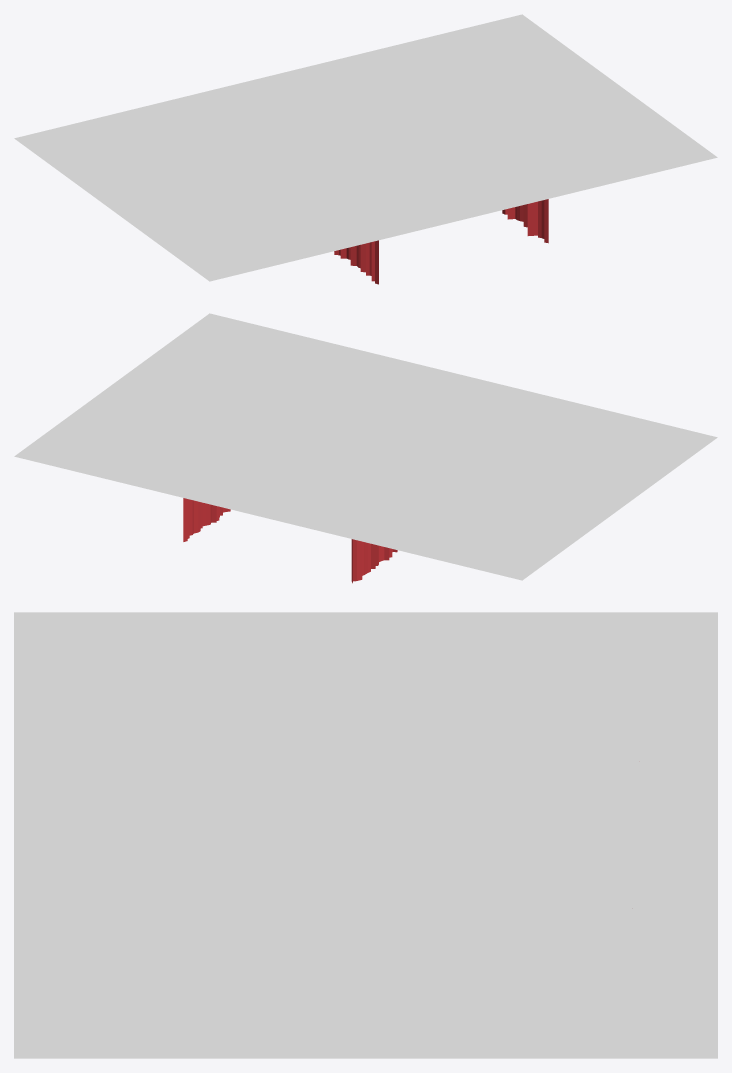
File: icpupt.fbx
3 views of the same model, one above another, from view 1: azimuth 30°, elevation 25°; view 2: azimuth 150°, elevation 25°; view 3: azimuth 270°, elevation 25° (orthographic). The views are drawn at different scales.
Visible parts, largest first — view 1: Base, L, R; view 2: Base, L, R; view 3: L, R, Base.
Boxes of the visible parts, box(x1,y1,x2,y2) form: Base: box(184, 55, 548, 284); L: box(14, 97, 378, 284); R: box(353, 14, 717, 198); Base: box(183, 354, 548, 583); L: box(352, 396, 717, 581); R: box(14, 313, 379, 533); L: box(14, 612, 717, 768); R: box(14, 902, 717, 1058); Base: box(14, 756, 717, 914).
Bounding box in the file's own units: 8400 × 700 × 5600.
